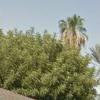Palm tree: (50, 10, 89, 53)
